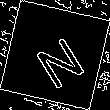N_NW: (24, 23, 86, 87)
